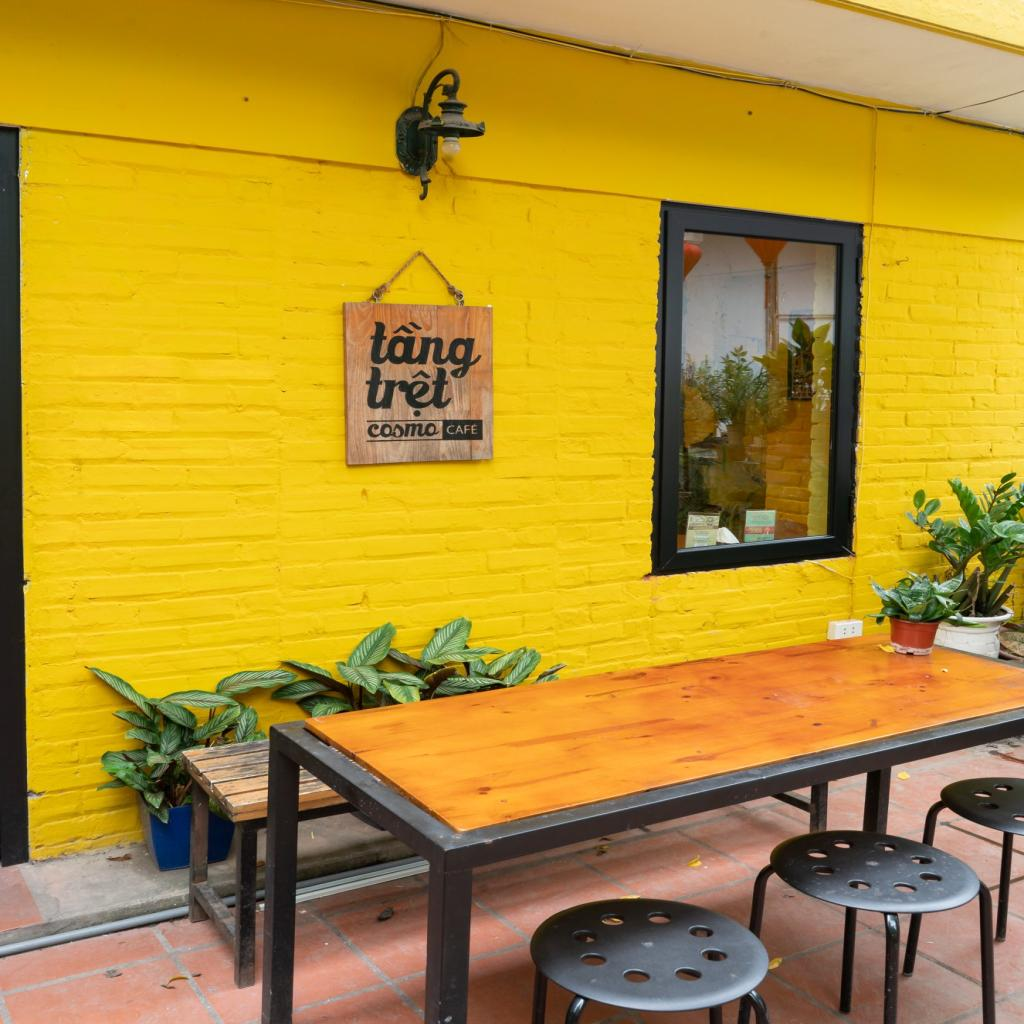text: (364, 319, 482, 377), (360, 365, 456, 420), (358, 420, 438, 442), (444, 420, 482, 437)
